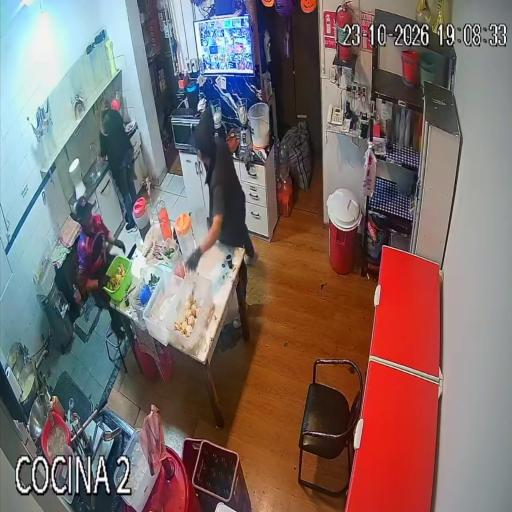Envase Llajua: (51, 395, 64, 418)
Jarra1: (133, 197, 150, 238)
Jarra2: (175, 213, 195, 265)
Jarra3: (190, 207, 210, 257)
Microondas: (171, 109, 202, 153)
Persona1: (189, 112, 255, 269)
Persona2: (76, 196, 125, 293)
Persona3: (99, 103, 136, 229)
Taper2: (128, 266, 170, 328)
Taper3: (143, 273, 182, 344)
Taper4: (163, 273, 214, 359)
